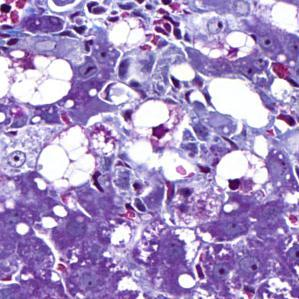ballooning: (29, 122, 102, 194), (5, 47, 74, 109), (214, 147, 270, 199)
